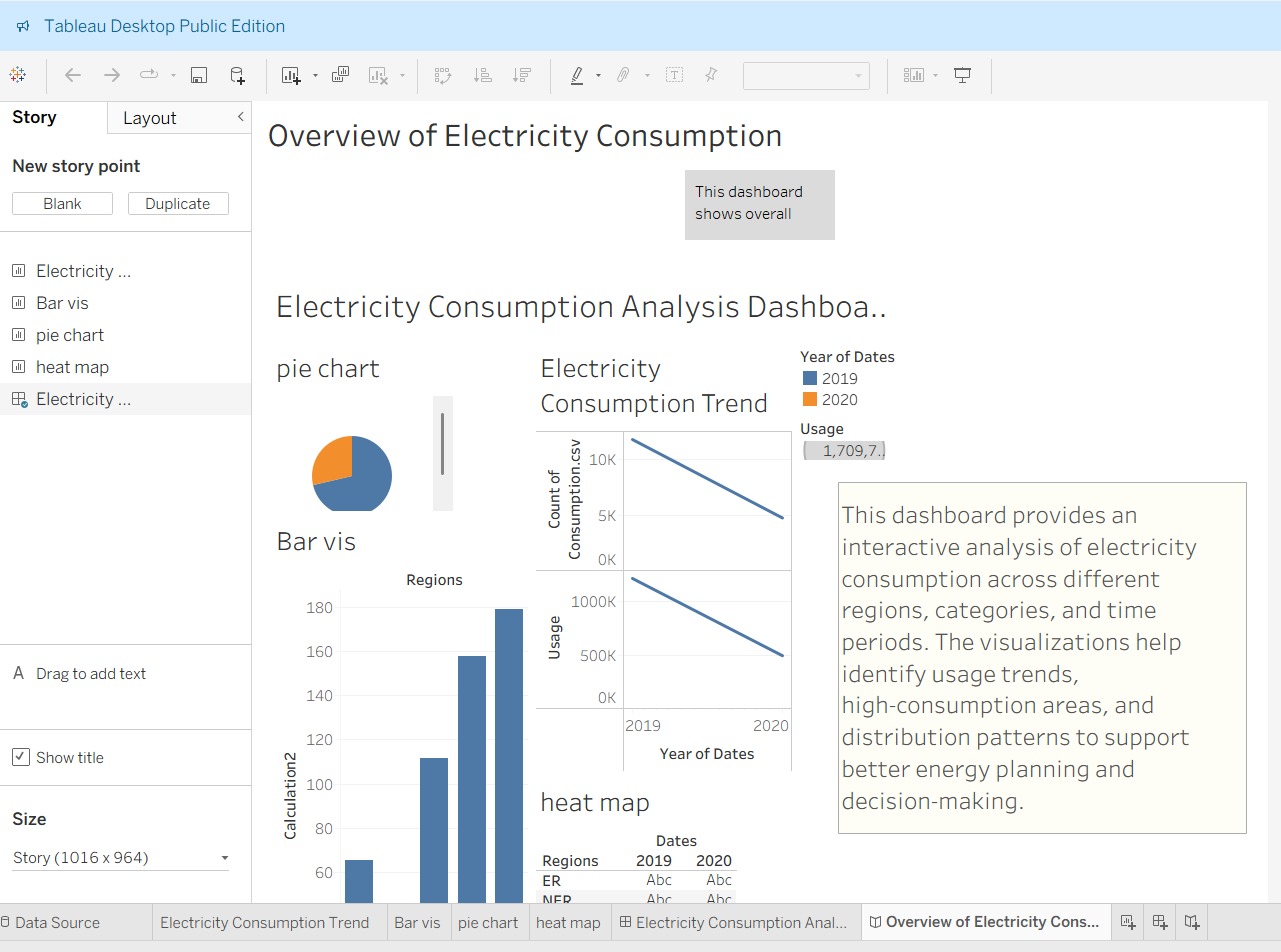

What the dashboard file says about the page in this screenshot:
{"tool":"tableau","page":{"name":"Electricity Consumption Analysis Dashboard","canvas":[650,860],"ordinal":0},"visuals":[{"type":"title","box":[8,8.6,634,79.4]},{"type":"worksheet","title":"pie chart","mark":"Pie","box":[8,87.9,264,186.5]},{"type":"worksheet","title":"Electricity Consumption Trend","mark":"Automatic","rows":["Consumption.csv.csv_A0F0CAE825864A7CBC2097E2CD51E5C3","Usage"],"cols":["Dates"],"box":[272,87.9,264,468.2]},{"type":"legend","title":"pie chart","param":"[federated.1omuj8v0z6mk83122zkm10vb6kk7].[yr:Dates:ok]","box":[536,87.9,106,77.2]},{"type":"legend","title":"pie chart","param":"[federated.1omuj8v0z6mk83122zkm10vb6kk7].[sum:Usage:qk]","box":[536,165.1,106,54.7]},{"type":"worksheet","title":"Bar vis","mark":"Automatic","rows":["Calculation_1041827508842498"],"cols":["Regions"],"box":[8,274.4,264,577]},{"type":"worksheet","title":"heat map","mark":"Automatic","rows":["Regions"],"cols":["Dates"],"box":[272,556.1,264,295.3]}]}

Visuals, with their boxes on the page's 650x860 design canvas (x1, y1, x2, y2). These are canvas units, not pixel positions in the 1281x952 screenshot, which may show the page scaled, cropped or inside an application window:
title: [8,9,642,88]
"pie chart" worksheet (Pie marks): [8,88,272,274]
"Electricity Consumption Trend" worksheet: [272,88,536,556]
"pie chart" legend: [536,88,642,165]
"pie chart" legend: [536,165,642,220]
"Bar vis" worksheet: [8,274,272,851]
"heat map" worksheet: [272,556,536,851]
